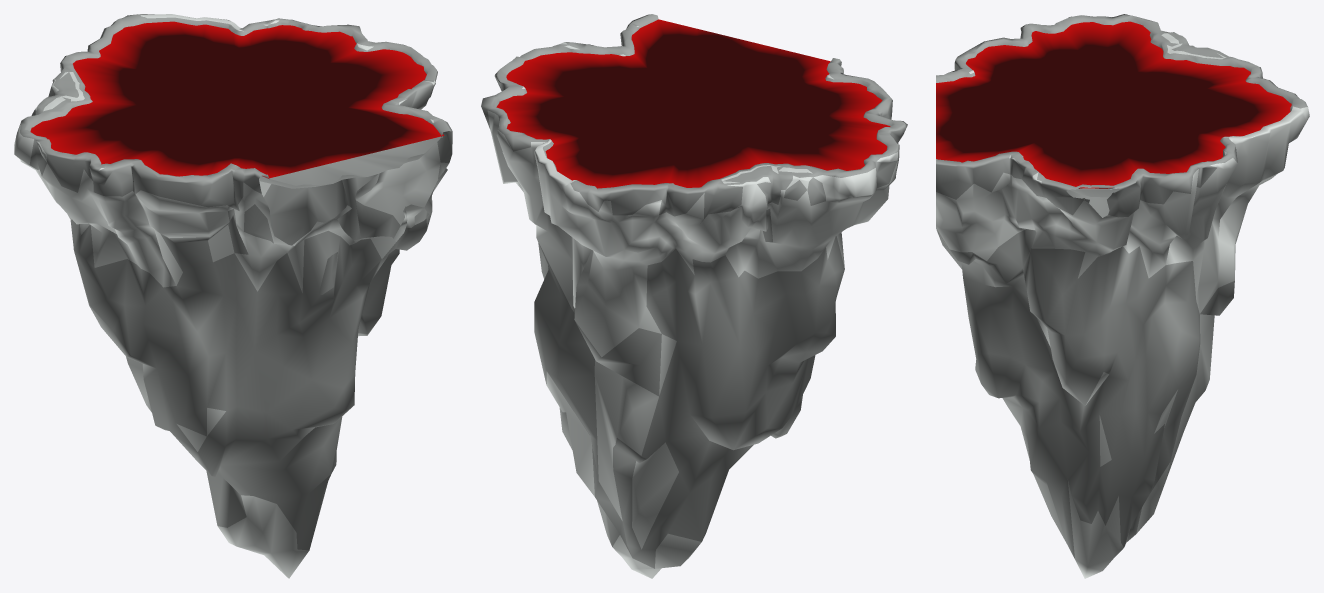
The picture shows the model from 3 angles, left to right: view 1: azimuth 30°, elevation 25°; view 2: azimuth 150°, elevation 25°; view 3: azimuth 270°, elevation 25°; orthographic projection. The views are drawn at different scales.
Parts seen in each view (by area): view 1: G:\FFXIV-MapTools\exports\a2f1\bg\ex1\03_abr_a2\fld\a2f1\bgp (×7); view 2: G:\FFXIV-MapTools\exports\a2f1\bg\ex1\03_abr_a2\fld\a2f1\bgp (×9); view 3: G:\FFXIV-MapTools\exports\a2f1\bg\ex1\03_abr_a2\fld\a2f1\bgp (×8).
Boxes of the visible parts, box(x1,y1,x2,y2) form: G:\FFXIV-MapTools\exports\a2f1\bg\ex1\03_abr_a2\fld\a2f1\bgp (×7): box(14, 14, 452, 578); G:\FFXIV-MapTools\exports\a2f1\bg\ex1\03_abr_a2\fld\a2f1\bgp (×9): box(481, 14, 907, 578); G:\FFXIV-MapTools\exports\a2f1\bg\ex1\03_abr_a2\fld\a2f1\bgp (×8): box(936, 14, 1309, 578).
Bounding box in the file's own units: 123 × 150 × 111.
